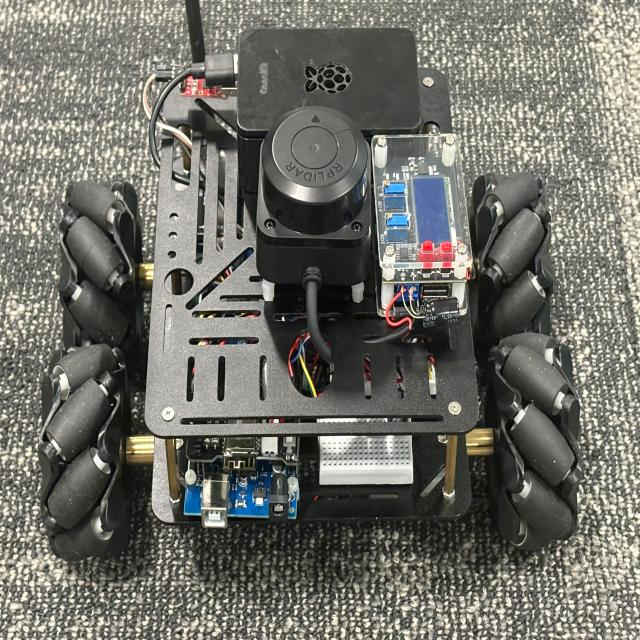ArduinoCar3: (53, 0, 580, 556)
